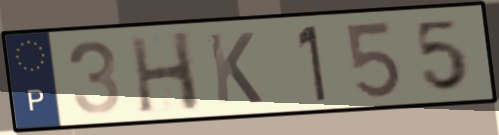1: (294, 22, 330, 105)
3: (65, 38, 121, 116)
5: (342, 17, 405, 101), (415, 16, 474, 94)
H: (125, 28, 204, 116)
K: (204, 29, 266, 105)
